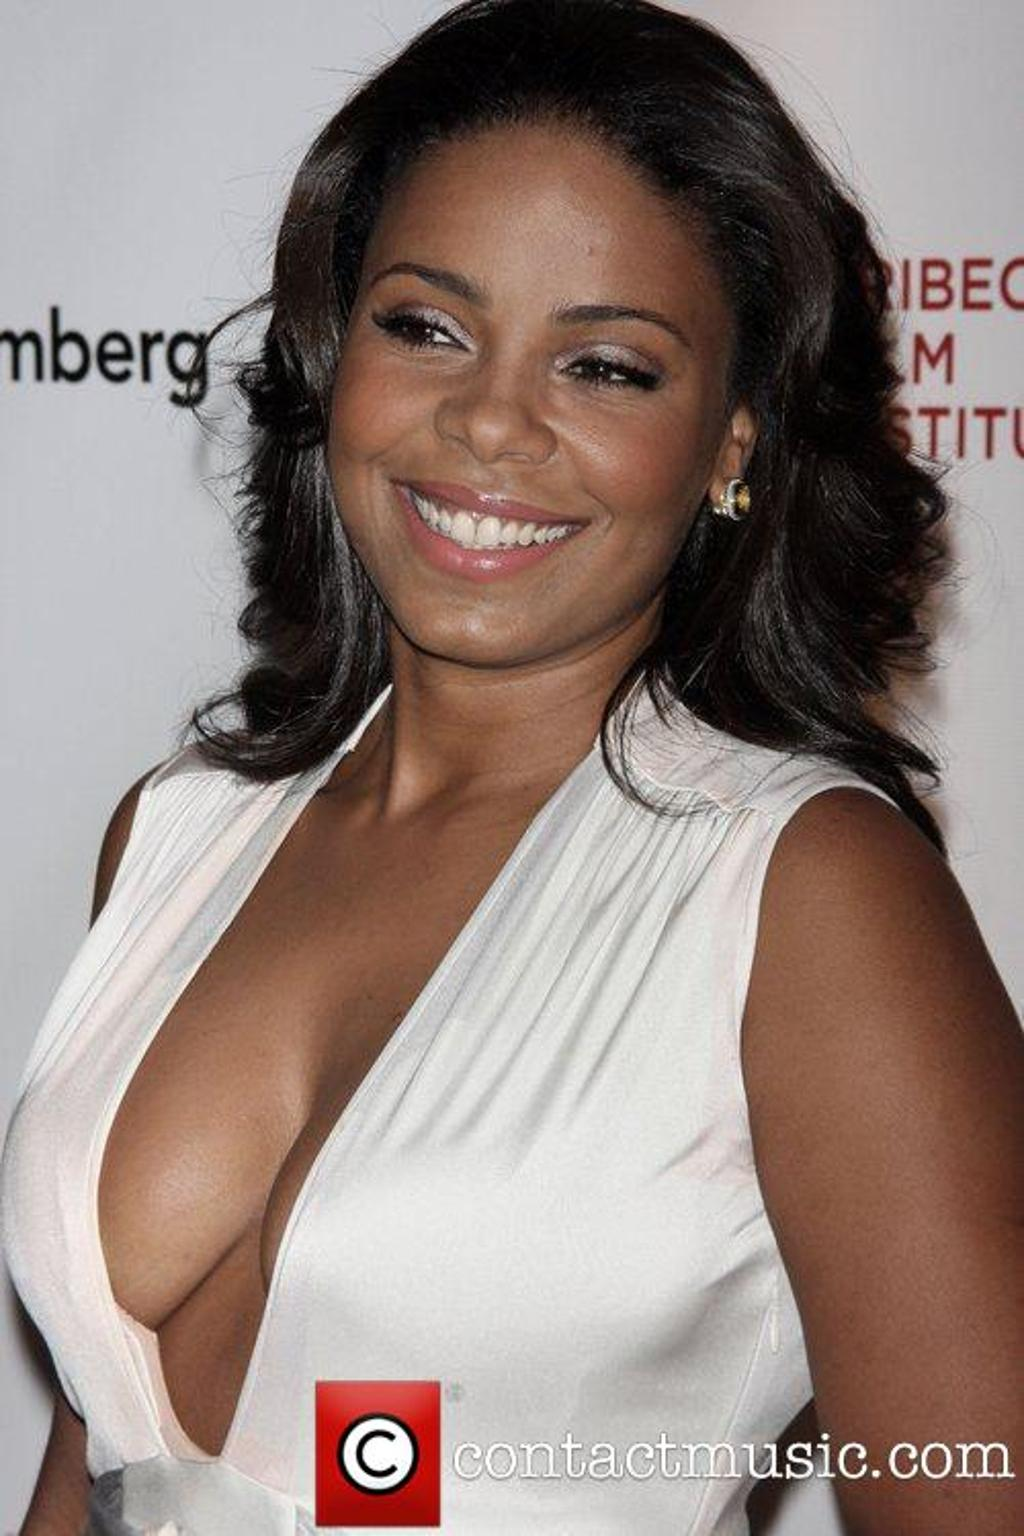face: (330, 120, 750, 658)
